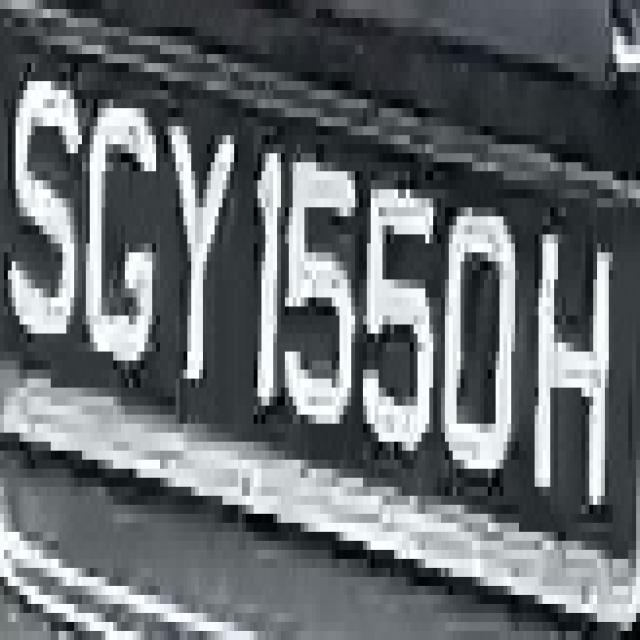0: (429, 162, 523, 514)
1: (254, 99, 281, 478)
5: (355, 144, 441, 487), (281, 99, 351, 442)
G: (82, 54, 160, 415)
H: (526, 189, 616, 532)
S: (16, 9, 78, 406)
Y: (160, 90, 238, 406)
